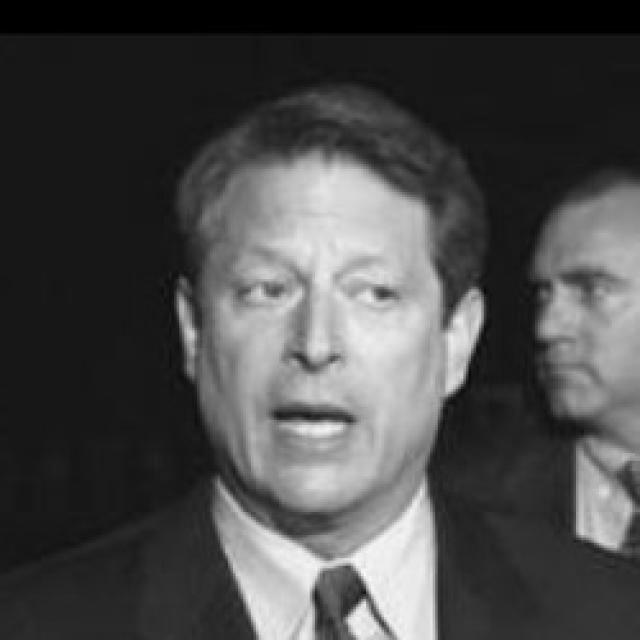real: (168, 116, 484, 512), (519, 159, 640, 425), (214, 253, 408, 315), (532, 273, 612, 305)
